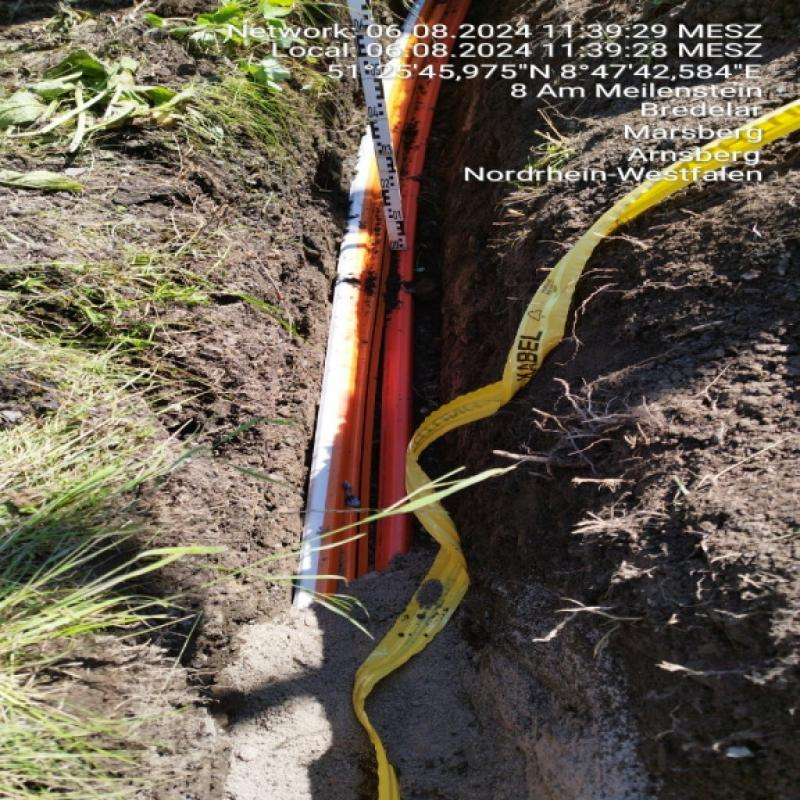Orang-Speednetrohrchen: (316, 7, 467, 581)
